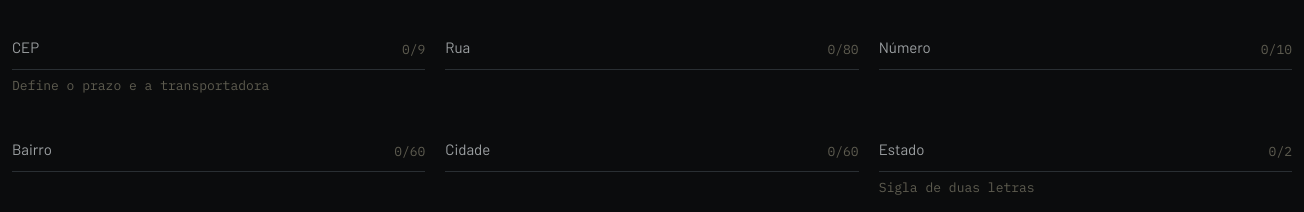
Test: DeliveryStep › aplica a máscara 00000-000 ao digitar o CEP
Type "30140071" into the field labelled "CEP" at (219, 43), box [12,16,425,70]
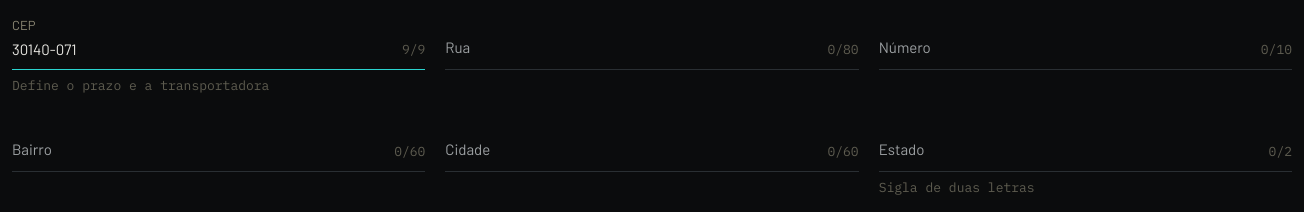
Result: the field labelled "CEP" holds "30140-071" at [12,16,425,70]
